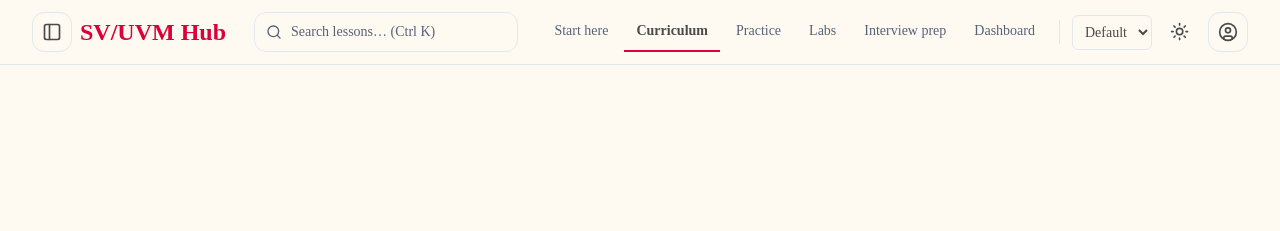
account-only UI (G30-SIDE-V07) › offers neither Sign in nor Sign out while the session is still loading
Click the button with test id "user-profile-button": (1228,32) [1208,12,1248,52]
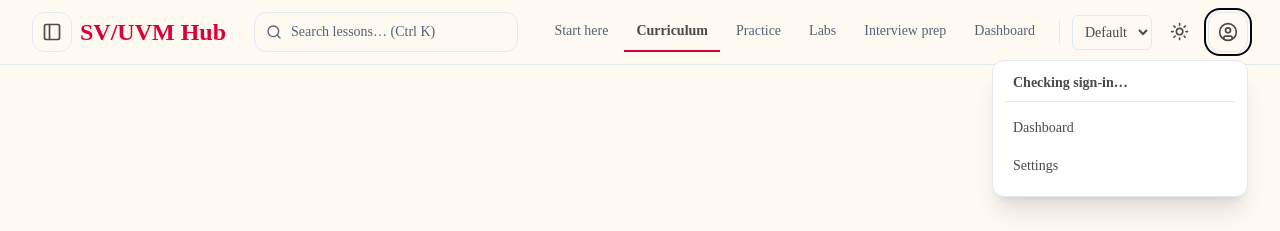
Check: the text "Checking sign-in…" is shown, box [1013,75,1128,90]
